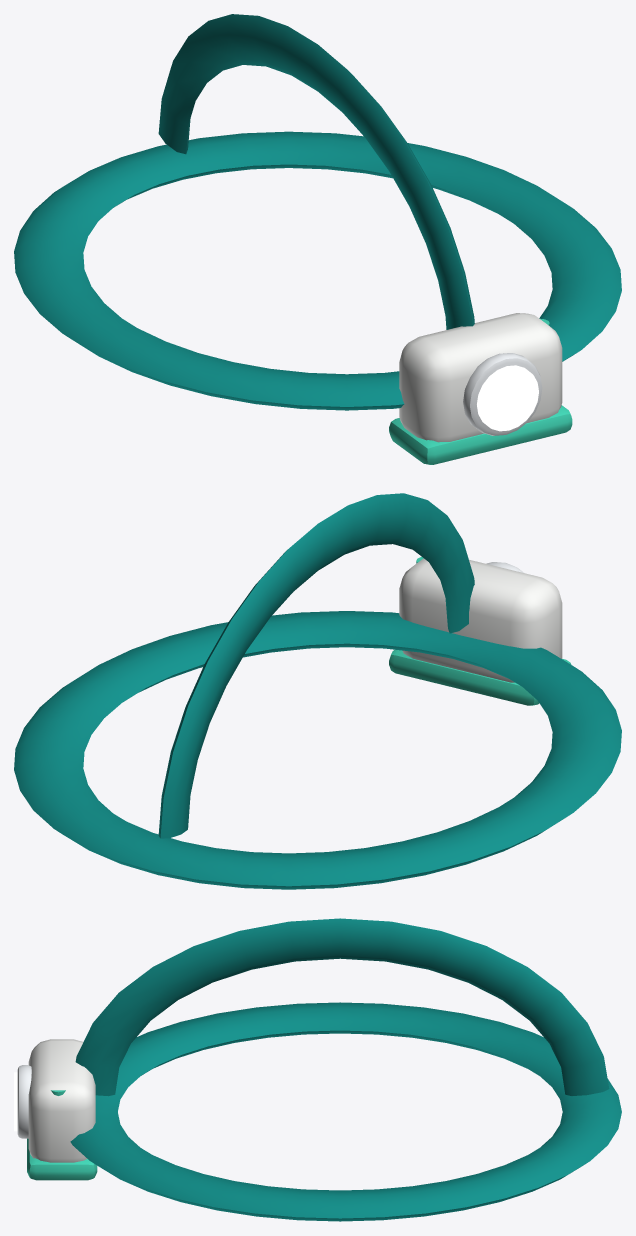
The model's file is extra_headlamp.glb.
The picture shows the model from 3 angles, top to bottom: view 1: azimuth 30°, elevation 25°; view 2: azimuth 150°, elevation 25°; view 3: azimuth 270°, elevation 25°; orthographic projection. The views are drawn at different scales.
Parts seen in each view (by area): view 1: extra_headlamp; view 2: extra_headlamp; view 3: extra_headlamp.
Boxes of the visible parts, x1=… form: extra_headlamp: x1=14, y1=14, x2=621, y2=464; extra_headlamp: x1=14, y1=493, x2=621, y2=889; extra_headlamp: x1=14, y1=918, x2=621, y2=1221.
Size of the model in its own units: 6.8 by 3.48 by 8.2.
